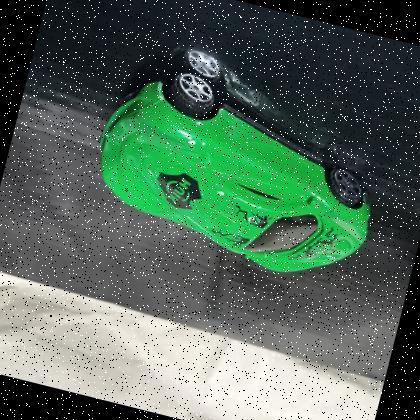Car: (72, 46, 402, 297)
